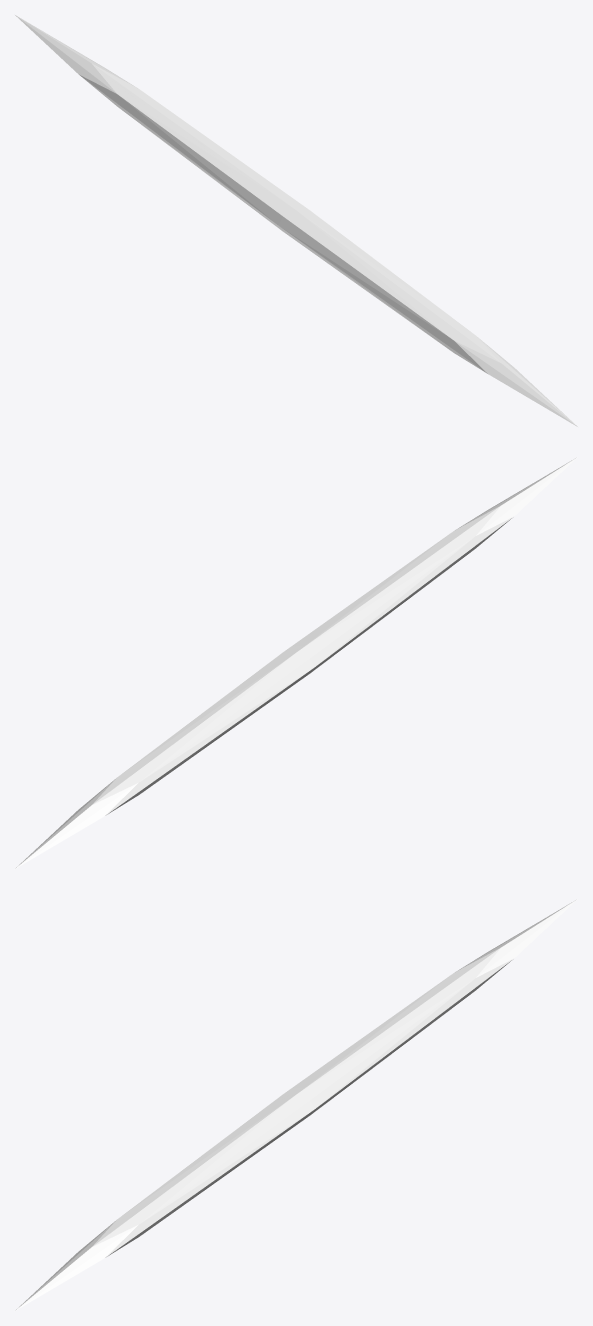
File: spark.obj
3 renders of one model, top to bottom at view 1: azimuth 30°, elevation 25°; view 2: azimuth 150°, elevation 25°; view 3: azimuth 330°, elevation 25°, orthographic.
Visible parts, largest first — view 1: Cube; view 2: Cube; view 3: Cube.
Boxes of the visible parts, box(x1,y1,x2,y2) form: Cube: box(15, 15, 577, 426); Cube: box(15, 457, 577, 868); Cube: box(15, 899, 577, 1310).
Bounding box in the file's own units: 0.1388 × 0.0766 × 3.73.
1 material, 1 textured.
